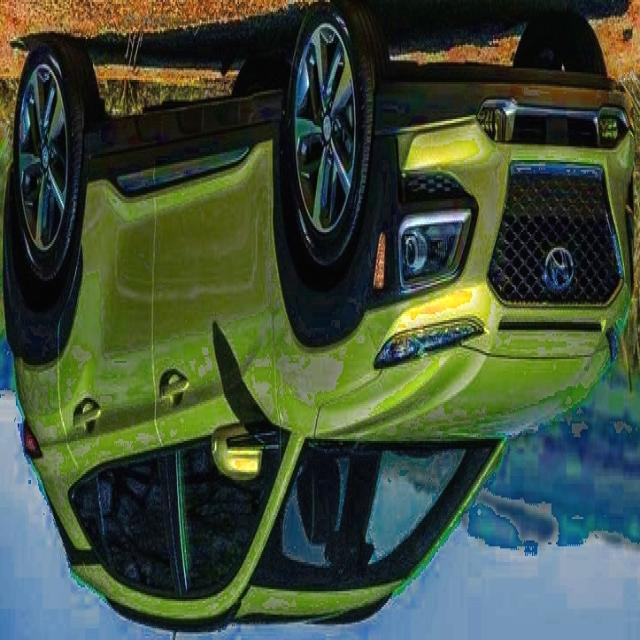green: (3, 4, 634, 628)
